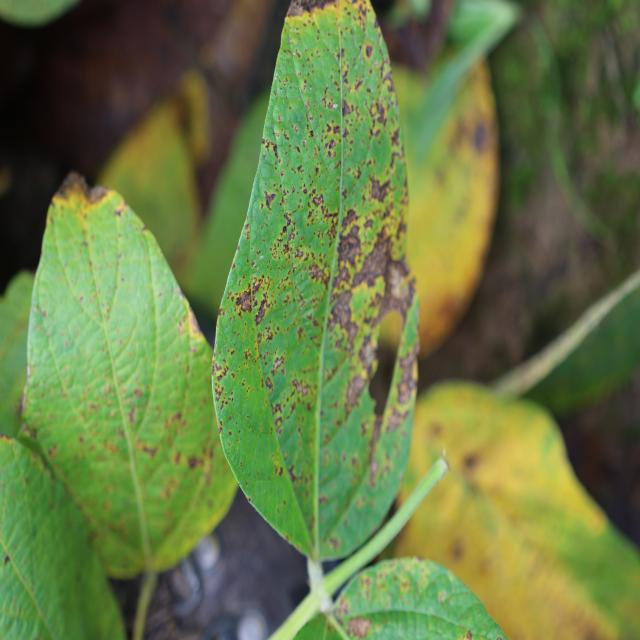Bacterial_Blight: (331, 228, 405, 362), (513, 230, 580, 314), (244, 265, 276, 314), (336, 222, 364, 266), (85, 395, 113, 424), (369, 172, 392, 204), (304, 185, 326, 214), (187, 307, 204, 342), (345, 616, 372, 638), (307, 260, 327, 285), (213, 378, 229, 407), (473, 121, 487, 151), (291, 377, 309, 398), (371, 101, 386, 126), (321, 89, 338, 111), (139, 441, 159, 459), (463, 451, 481, 470), (286, 0, 306, 17), (282, 211, 296, 235), (20, 423, 38, 441), (451, 539, 465, 561), (336, 598, 351, 618), (263, 190, 276, 209), (271, 355, 284, 374), (20, 387, 28, 416), (187, 455, 202, 470), (368, 458, 379, 478), (287, 465, 299, 482), (324, 138, 336, 154), (328, 536, 340, 551), (128, 408, 138, 425), (211, 355, 217, 379), (342, 101, 351, 116), (364, 44, 373, 59), (437, 590, 446, 605), (272, 402, 282, 415), (243, 349, 252, 363), (133, 387, 143, 399), (216, 371, 226, 382), (294, 248, 304, 259), (178, 320, 186, 333), (275, 466, 283, 477), (332, 124, 340, 135), (3, 555, 10, 566), (115, 208, 123, 217), (466, 630, 473, 640), (294, 145, 301, 154), (296, 164, 302, 173), (314, 166, 319, 176), (218, 425, 223, 435), (251, 260, 256, 268), (247, 496, 252, 504), (259, 254, 264, 261), (228, 431, 232, 437)
Soybean: (212, 0, 419, 561)
